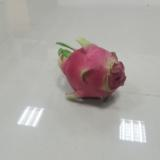pitaya: (54, 38, 127, 104)
